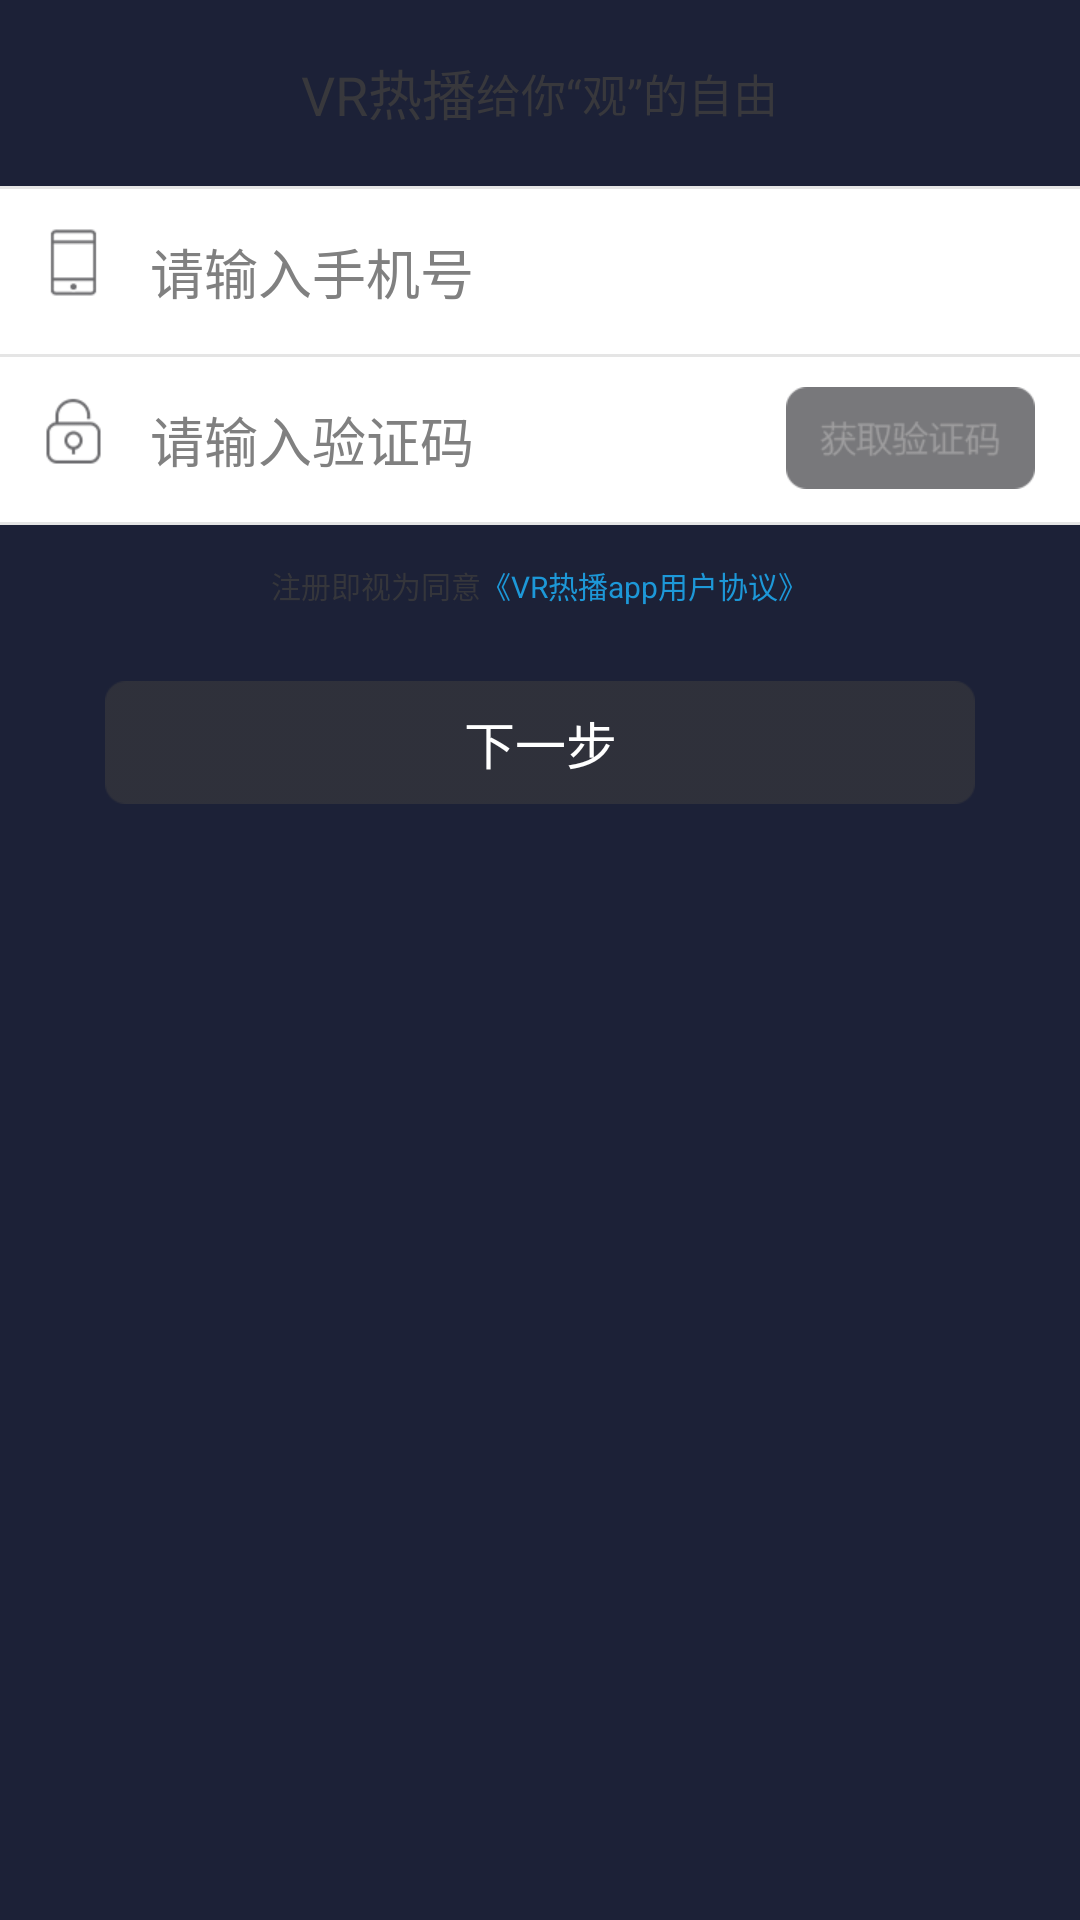

Icons on this 1080×1920 Android screen, each with the point to tap as point (x, y):
verificationcode: point (73, 431)
